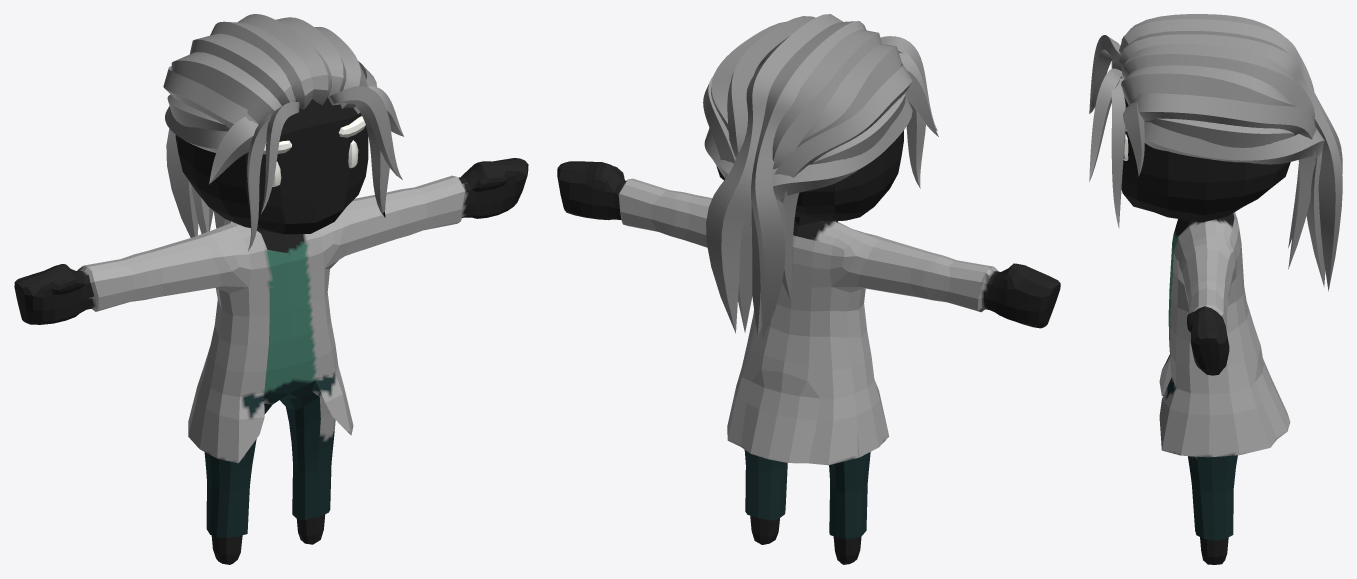
Rendered from Doctor_Female_Old.fbx.
3 renders of one model, left to right at view 1: azimuth 30°, elevation 25°; view 2: azimuth 150°, elevation 25°; view 3: azimuth 270°, elevation 25°, orthographic. The views are drawn at different scales.
Visible parts, largest first — view 1: Body; view 2: Body; view 3: Body.
Part boxes in pixels (x1,y1,x2,y2): Body: [14, 14, 528, 564]; Body: [557, 14, 1060, 564]; Body: [1089, 14, 1342, 564].
Bounding box in the file's own units: 324 × 320 × 142.
Materials: 1 (1 with a texture image).
